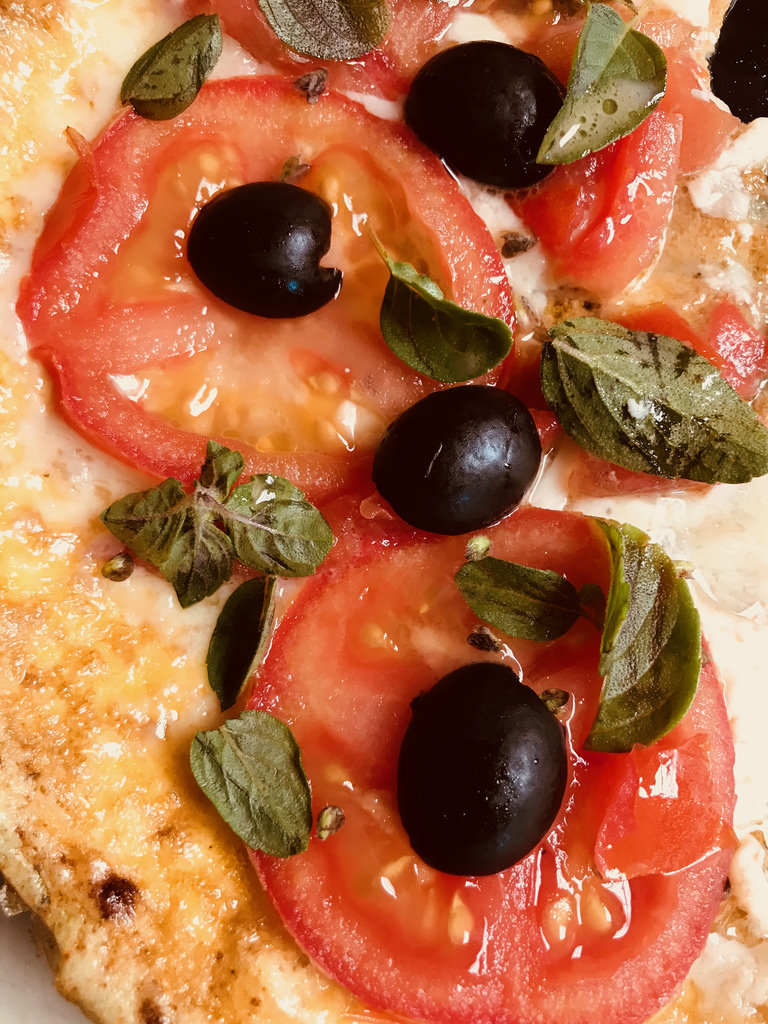fried egg: (6, 7, 768, 1005)
